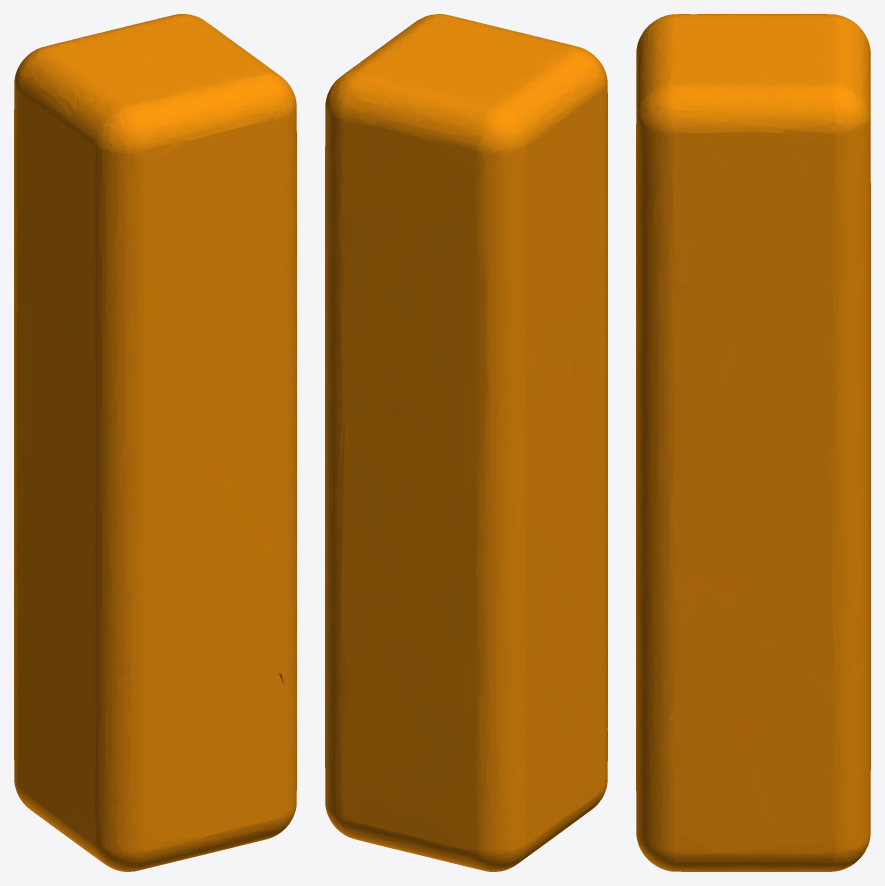
The picture shows the model from 3 angles, left to right: view 1: azimuth 30°, elevation 25°; view 2: azimuth 150°, elevation 25°; view 3: azimuth 270°, elevation 25°; orthographic projection. The views are drawn at different scales.
Bounding box in the file's own units: 0.5146 × 1.9 × 0.5146.
1 material, 1 textured.
